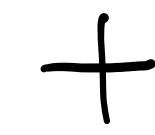plus: (41, 12, 155, 124)
